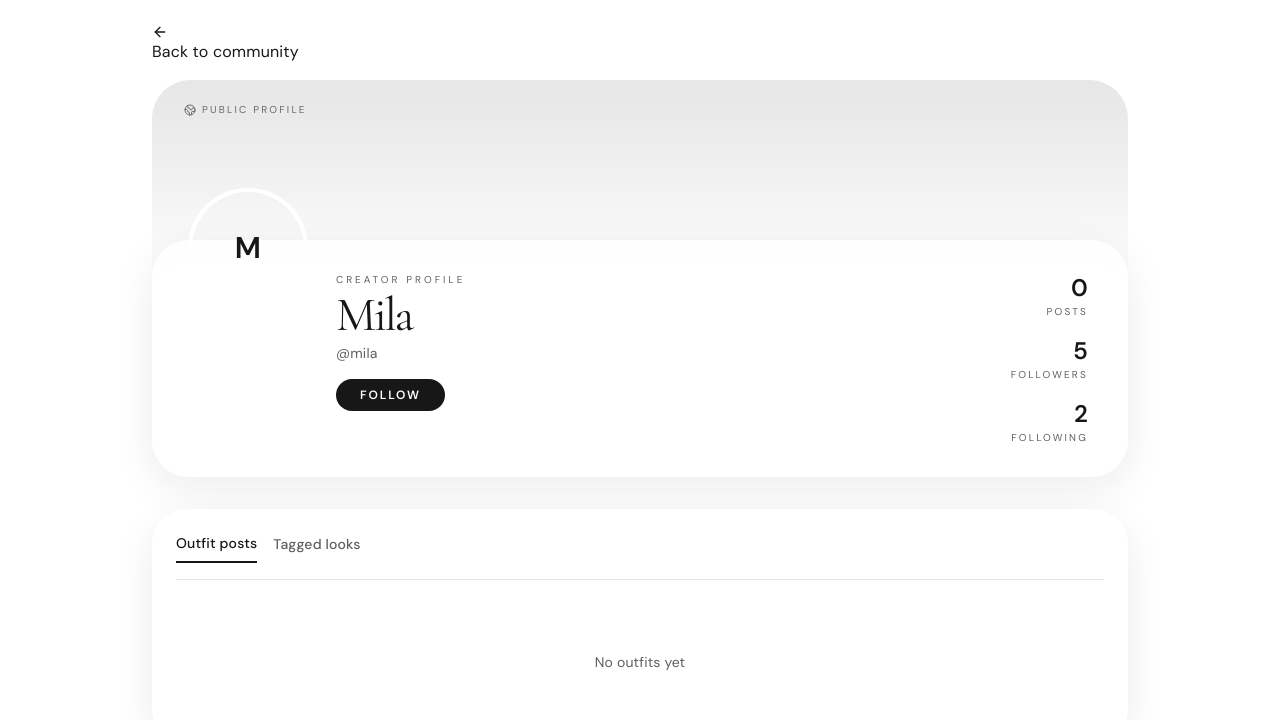
public profile page › keeps a successful follow when only the counts refresh fails
The image size is (1280, 720).
Click the button with aria-label "Follow mila". click: (390, 395)
box: x1=336 y1=379 x2=445 y2=411
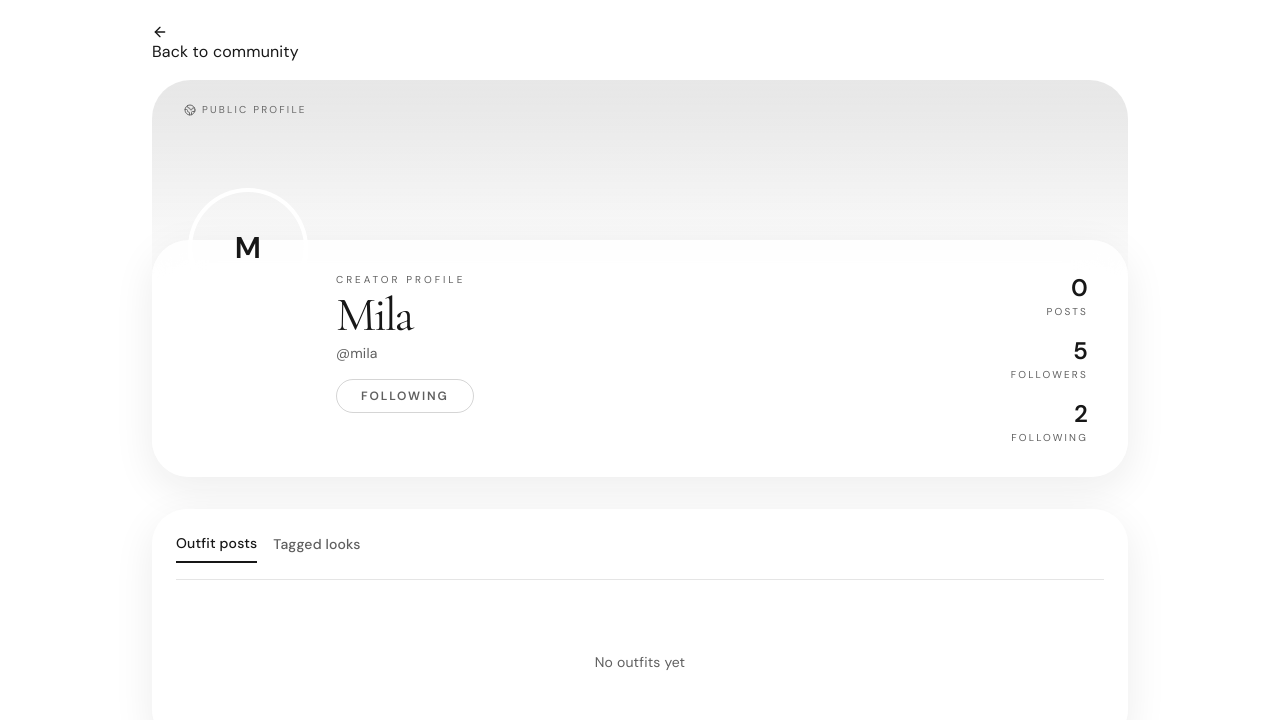
Check: the button with aria-label "Unfollow mila" is shown, box x1=336 y1=379 x2=474 y2=413
